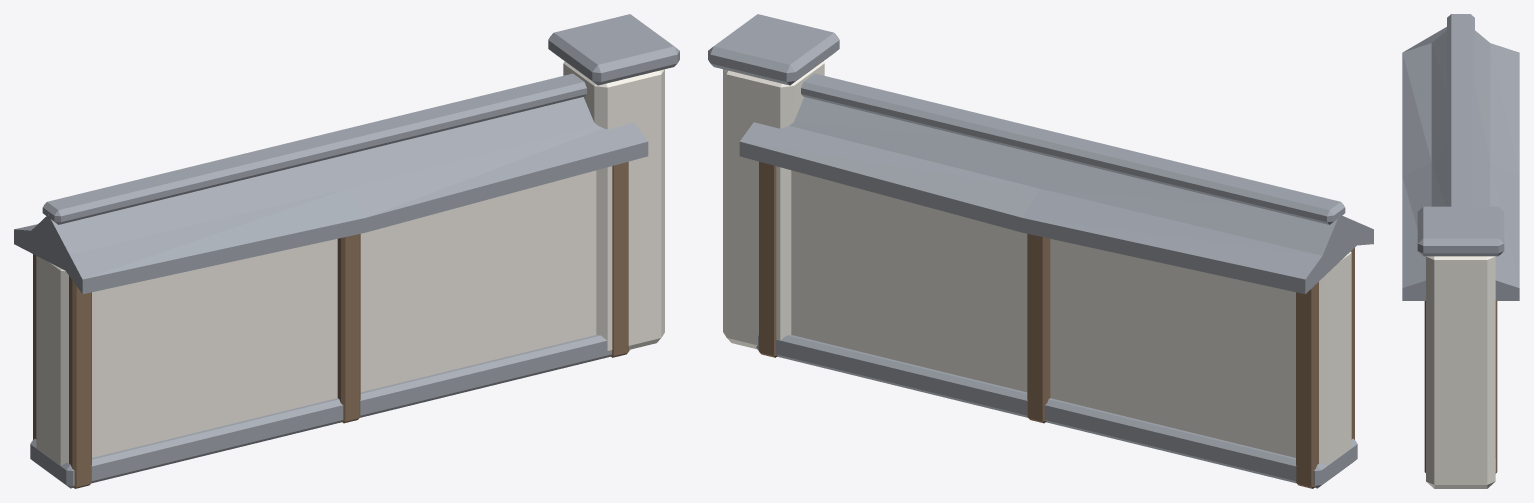
The model's file is feudal-japan-castle-town-wall-walk-end-637a1e8b__26580.glb.
3 renders of one model, left to right at view 1: azimuth 30°, elevation 25°; view 2: azimuth 150°, elevation 25°; view 3: azimuth 270°, elevation 25°, orthographic. The views are drawn at different scales.
Visible parts, largest first — view 1: wall-walk-end; view 2: wall-walk-end; view 3: wall-walk-end.
Boxes of the visible parts, left/top/right/bottom form: wall-walk-end: left=14, top=14, right=679, bottom=488; wall-walk-end: left=708, top=14, right=1373, bottom=488; wall-walk-end: left=1402, top=14, right=1519, bottom=488.
Size of the model in its own units: 4.31 by 2.02 by 0.84.
